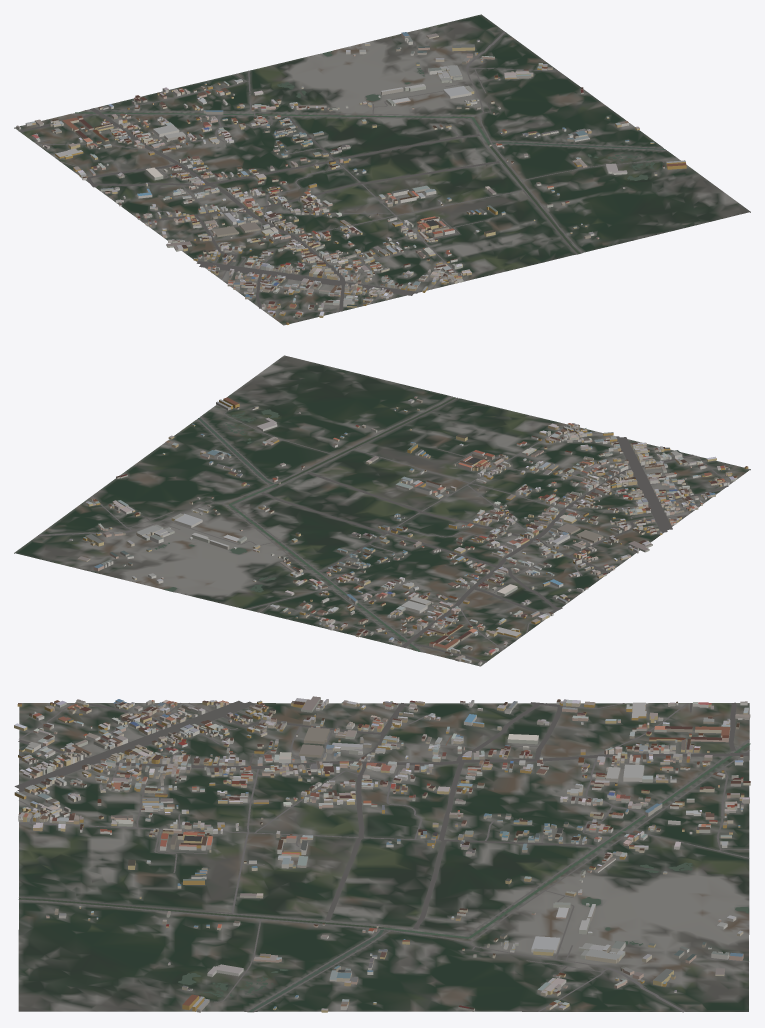
3 renders of one model, top to bottom at view 1: azimuth 30°, elevation 25°; view 2: azimuth 150°, elevation 25°; view 3: azimuth 270°, elevation 25°, orthographic. The views are drawn at different scales.
Visible parts, largest first — view 1: ground, buildings, roads, water; view 2: ground, buildings, roads, water; view 3: ground, buildings, roads, water.
Boxes of the visible parts, <box> form: ground: <box>14,14,750,325</box>; buildings: <box>16,32,686,324</box>; roads: <box>19,31,666,312</box>; water: <box>75,51,665,253</box>; ground: <box>14,355,750,666</box>; buildings: <box>69,396,748,665</box>; roads: <box>38,396,730,662</box>; water: <box>154,397,455,651</box>; ground: <box>18,703,749,1012</box>; buildings: <box>14,696,750,1012</box>; roads: <box>14,700,749,1012</box>; water: <box>18,743,750,1012</box>.
Size of the model in its own units: 1425 by 19.25 by 1413.
